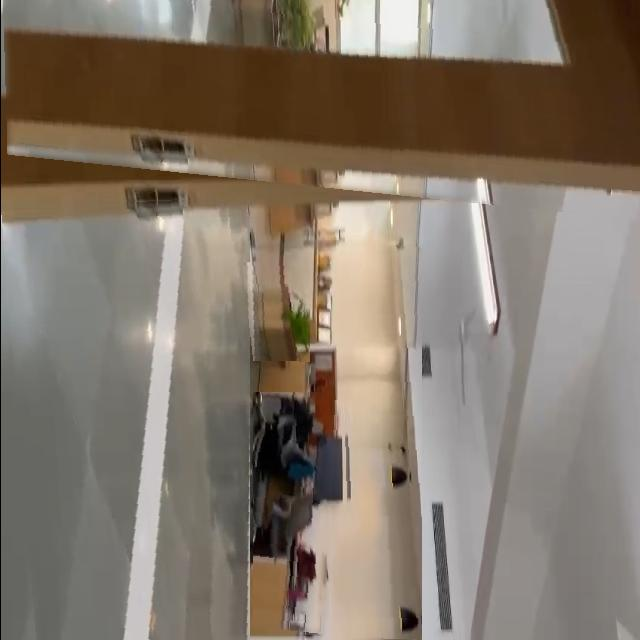door: (0, 0, 640, 221)
floor: (0, 197, 249, 640)
furniture: (252, 392, 338, 634), (241, 262, 309, 362)
wall: (338, 230, 421, 640)
